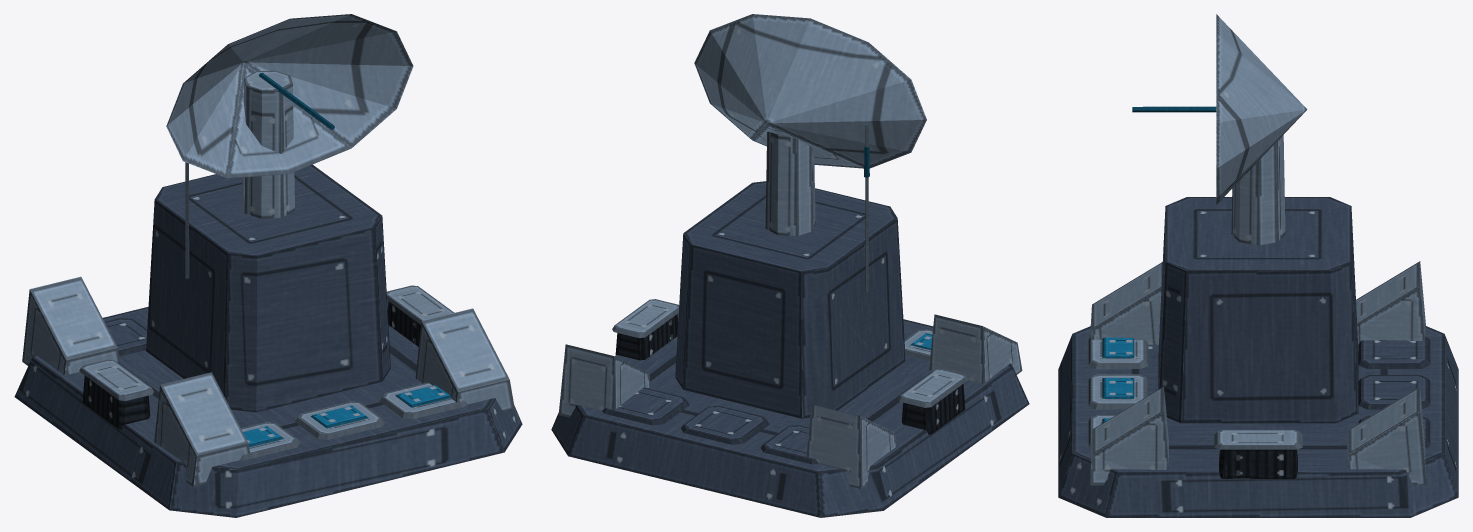
File: building-radar_station.fbx
The picture shows the model from 3 angles, left to right: view 1: azimuth 30°, elevation 25°; view 2: azimuth 150°, elevation 25°; view 3: azimuth 270°, elevation 25°; orthographic projection. The views are drawn at different scales.
Parts seen in each view (by area): view 1: building-radar_station; view 2: building-radar_station; view 3: building-radar_station.
Part boxes in pixels (x1,y1,x2,y2): building-radar_station: (14,14,522,517); building-radar_station: (551,14,1029,517); building-radar_station: (1058,14,1458,517).
Bounding box in the file's own units: 1456 × 1606 × 1456.
1 material, 1 textured.
